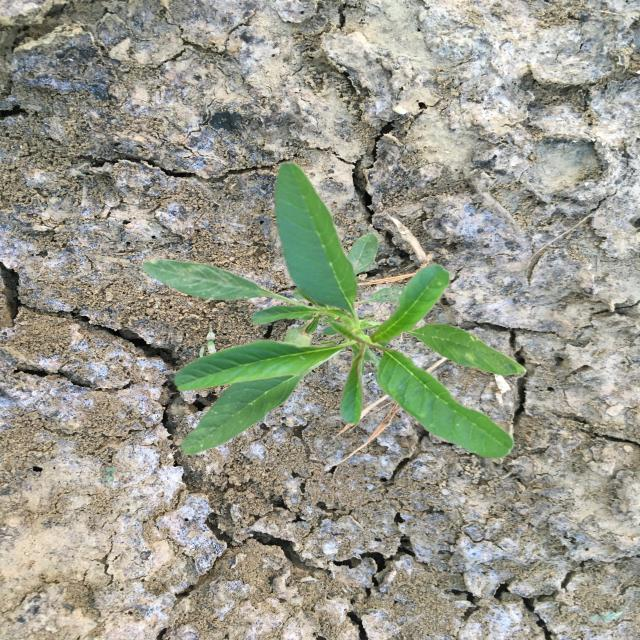Waterhemp: (141, 162, 526, 458)
